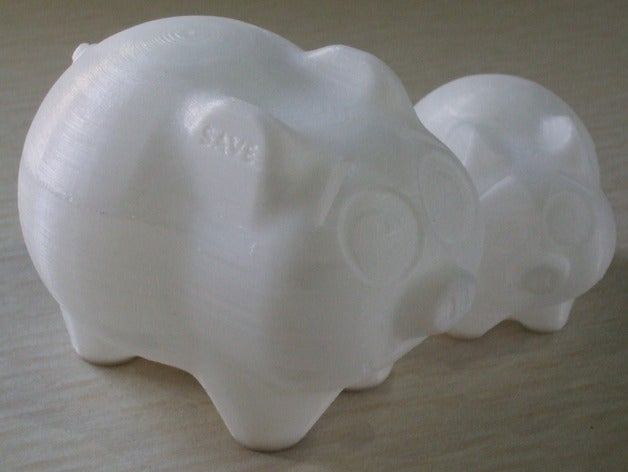Good: (16, 12, 622, 459)
